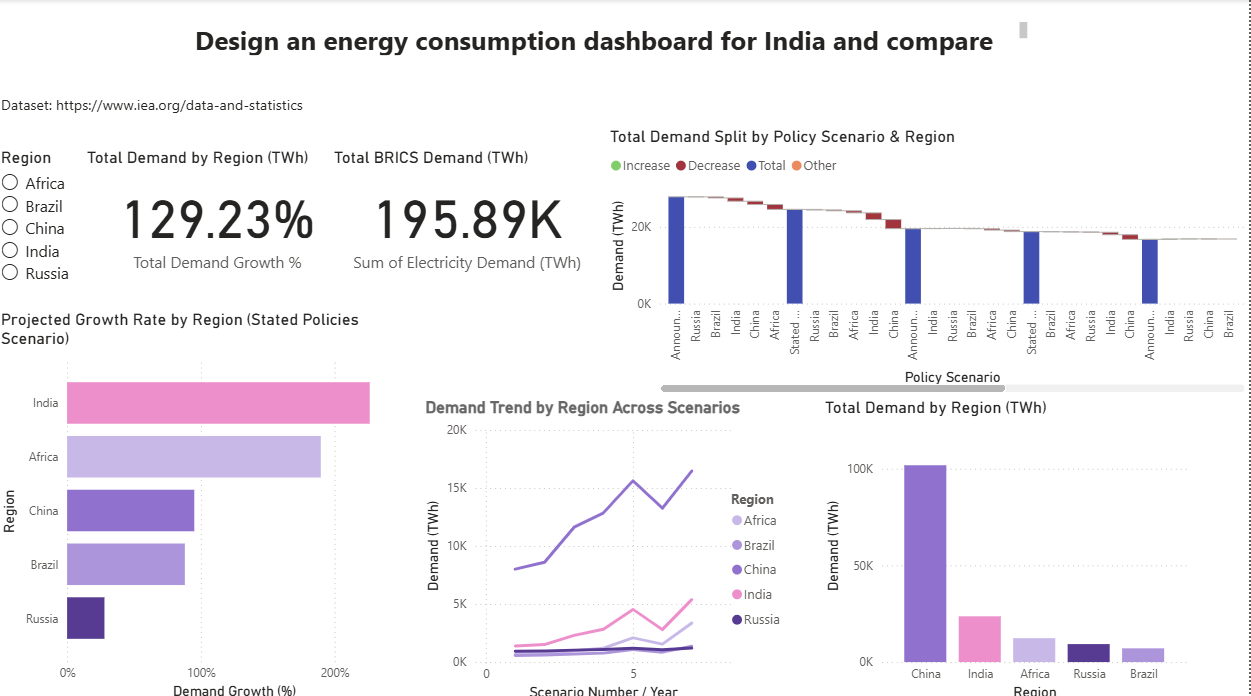

This screenshot's page, from the dashboard's own definition file:
{"tool":"powerbi","page":{"name":"Page 1","canvas":[1280,720],"ordinal":0},"visuals":[{"type":"lineChart","title":"Demand Trend by Region Across Scenarios","fields":{"Y":["Sum(Electricity demand (TWh) (2).Electricity Demand (TWh))"],"Series":["Electricity demand (TWh) (2).Region"],"Category":["Electricity demand (TWh) (2).Scenario Number"]},"box":[434,406,386,314],"z":0},{"type":"clusteredColumnChart","title":"Total Demand by Region (TWh)","fields":{"Category":["Electricity demand (TWh) (2).Region"],"Y":["Sum(Electricity demand (TWh) (2).Electricity Demand (TWh))"]},"box":[842,406,380,314],"z":1000},{"type":"listSlicer","fields":{"Values":["Electricity demand (TWh) (2).Region"]},"box":[0,152,176,216],"z":2000},{"type":"waterfallChart","title":"Total Demand Split by Policy Scenario & Region","fields":{"Category":["Electricity demand (TWh) (2).Scenario"],"Breakdown":["Electricity demand (TWh) (2).Region"],"Y":["Sum(Electricity demand (TWh) (2).Electricity Demand (TWh))"]},"box":[622,130,658,276],"z":5000},{"type":"clusteredBarChart","title":"Projected Growth Rate by Region (Stated Policies Scenario)","fields":{"Y":["Electricity demand (TWh) (2).Total Demand Growth %"],"Category":["Electricity demand (TWh) (2).Region"]},"box":[0,318,434,402],"z":6000},{"type":"textbox","box":[50,52,580,78],"z":7000},{"type":"textbox","box":[0,64,50,54],"z":7001},{"type":"textbox","box":[210,8,860,44],"z":7002},{"type":"textbox","box":[1160,58,120,60],"z":7003},{"type":"card","title":"Total Demand by Region (TWh)","fields":{"Values":["Electricity demand (TWh) (2).Total Demand Growth %"]},"box":[88,152,276,136],"z":7004},{"type":"card","title":"Total BRICS Demand (TWh)","fields":{"Values":["Sum(Electricity demand (TWh) (2).Electricity Demand (TWh))"]},"box":[340,152,282,136],"z":7005}]}

Visuals, with their boxes in screenshot pixels (x1, y1, x2, y2), scaled from the page's 1280x720 canvas onto the 1251x696 screenshot:
"Demand Trend by Region Across Scenarios" lineChart: rect(424, 392, 801, 695)
"Total Demand by Region (TWh)" clusteredColumnChart: rect(823, 392, 1194, 695)
listSlicer - Electricity demand (TWh) (2).Region: rect(0, 147, 172, 356)
"Total Demand Split by Policy Scenario & Region" waterfallChart: rect(608, 126, 1250, 392)
"Projected Growth Rate by Region (Stated Policies Scenario)" clusteredBarChart: rect(0, 307, 424, 695)
textbox: rect(49, 50, 616, 126)
textbox: rect(0, 62, 49, 114)
textbox: rect(205, 8, 1046, 50)
textbox: rect(1134, 56, 1250, 114)
"Total Demand by Region (TWh)" card: rect(86, 147, 356, 278)
"Total BRICS Demand (TWh)" card: rect(332, 147, 608, 278)
